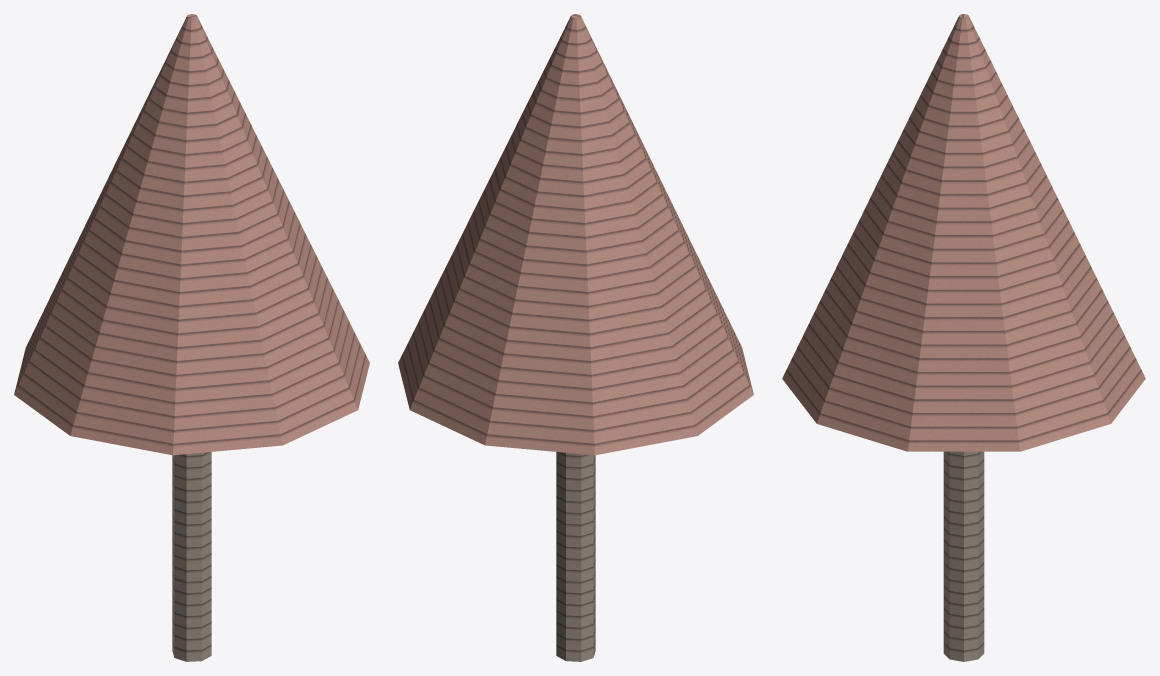
Rendered from tree_littleleaf_linden.glb.
3 renders of one model, left to right at view 1: azimuth 30°, elevation 25°; view 2: azimuth 150°, elevation 25°; view 3: azimuth 270°, elevation 25°, orthographic.
Visible parts, largest first — view 1: tree_littleleaf_linden-col; view 2: tree_littleleaf_linden-col; view 3: tree_littleleaf_linden-col.
Part boxes in pixels (box(x1,y1,x2,y2)): tree_littleleaf_linden-col: box(14, 14, 369, 661); tree_littleleaf_linden-col: box(398, 14, 753, 661); tree_littleleaf_linden-col: box(782, 14, 1145, 661).
Bounding box in the file's own units: 3.42 × 6.96 × 3.6.
2 materials, 2 textured.
